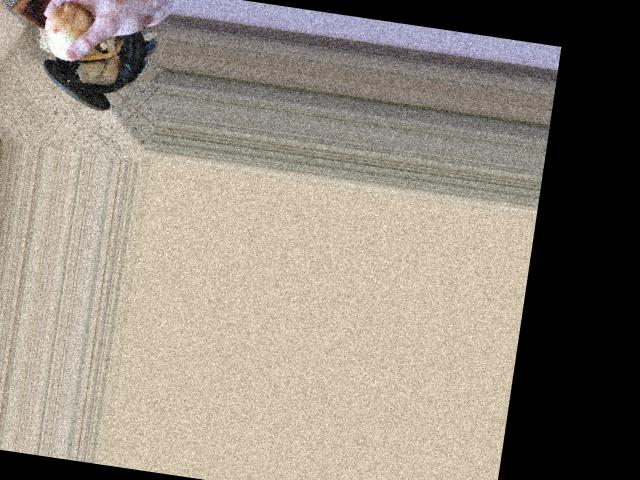onion: (39, 4, 100, 61)
